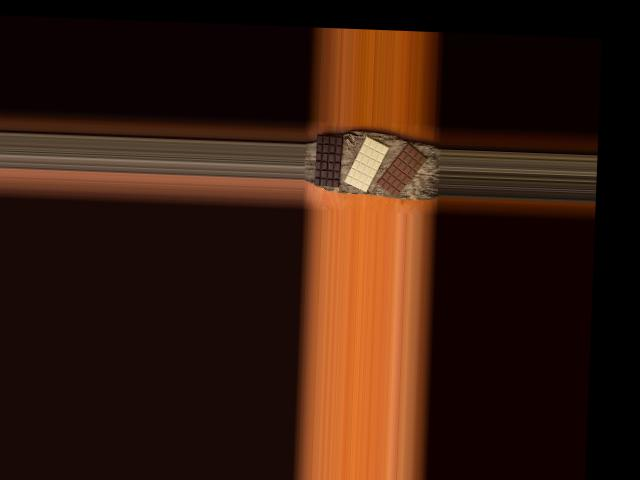chocolate: (313, 133, 342, 187)
